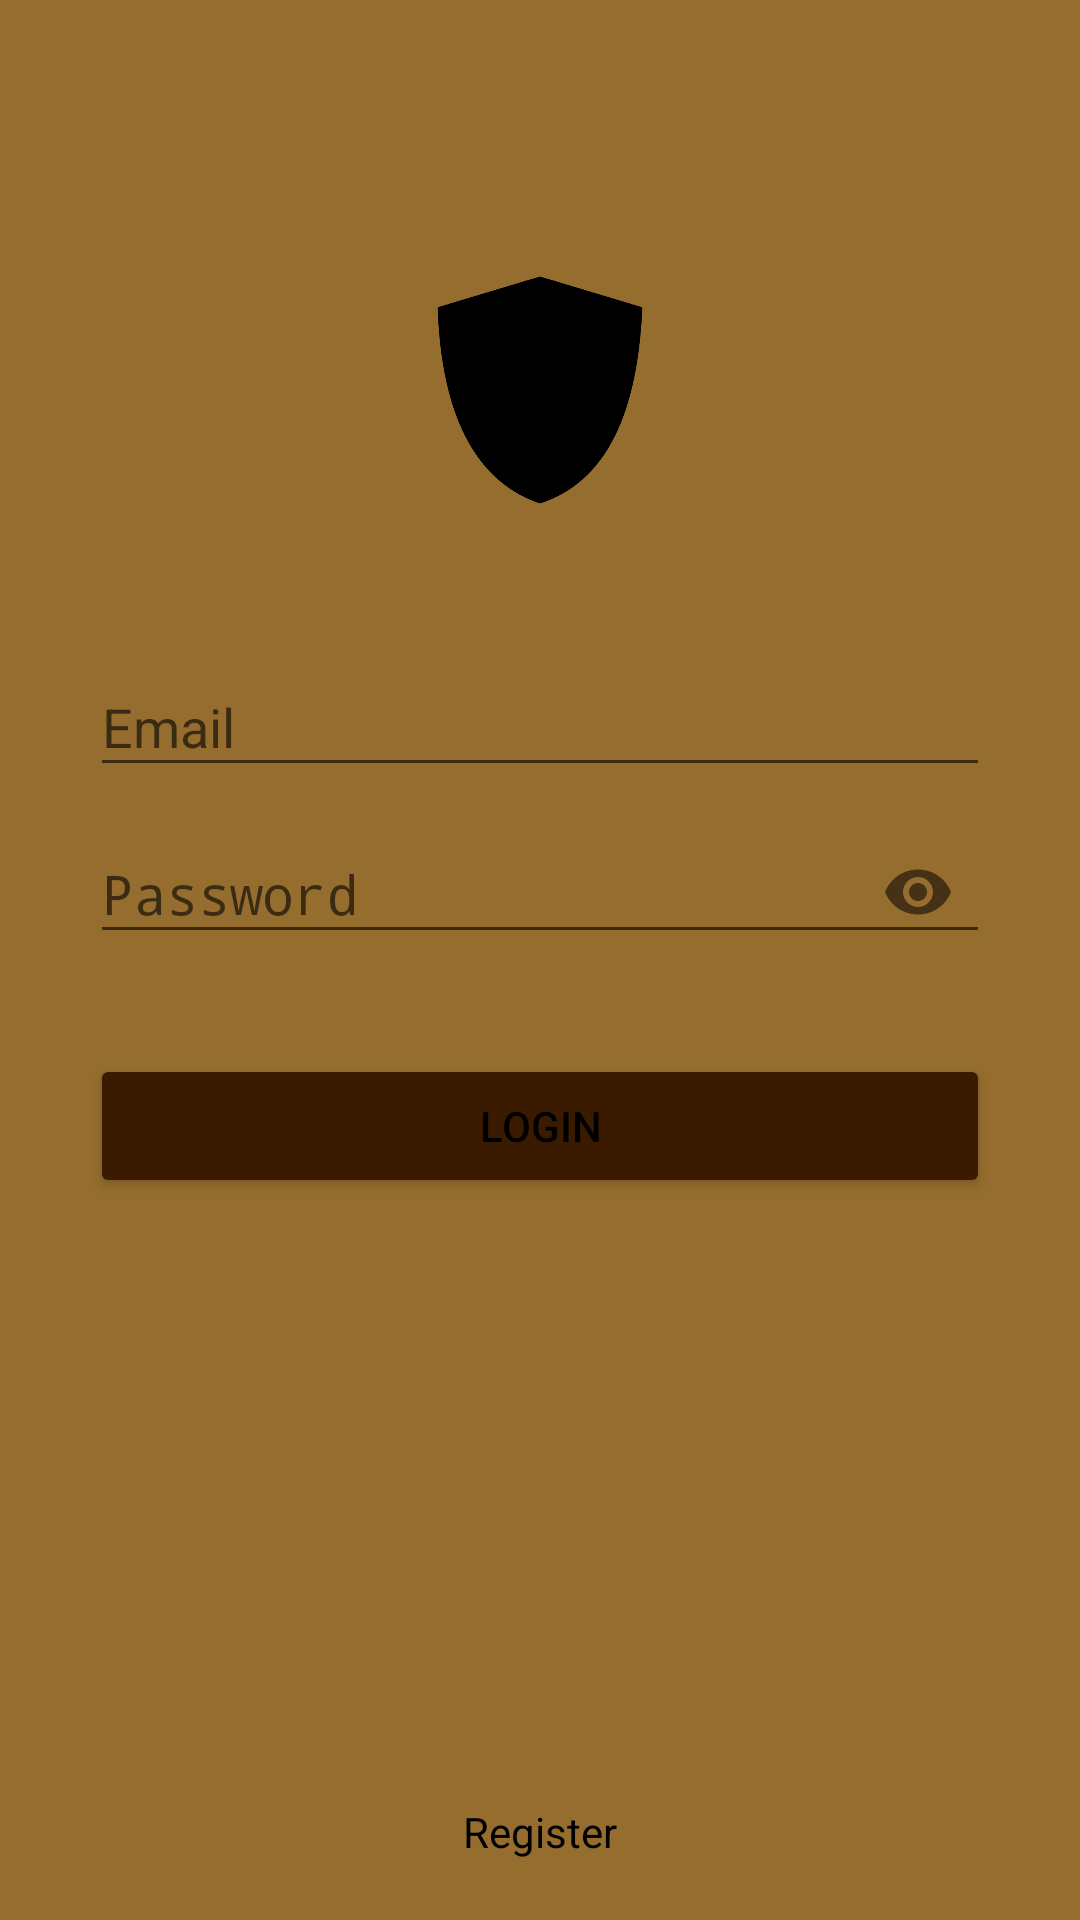

Where icons sit on this 1080*1920 app screen, as (x1, y1, x2, y2):
shield: (437, 276, 642, 504)
